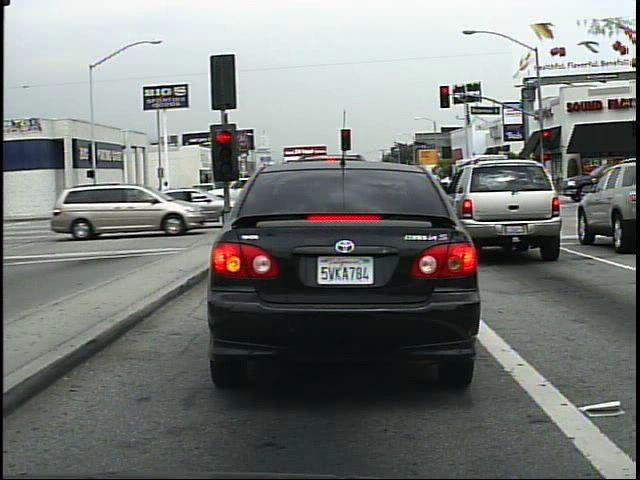person: (154, 178, 177, 217)
